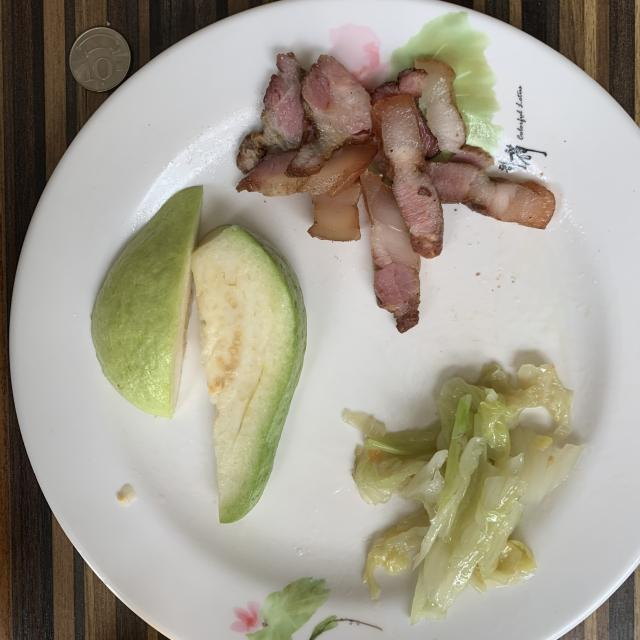cabbage: (344, 365, 584, 622)
coin: (70, 28, 131, 91)
grilled pork: (236, 52, 555, 332)
guava -sliced-: (91, 186, 306, 522)
